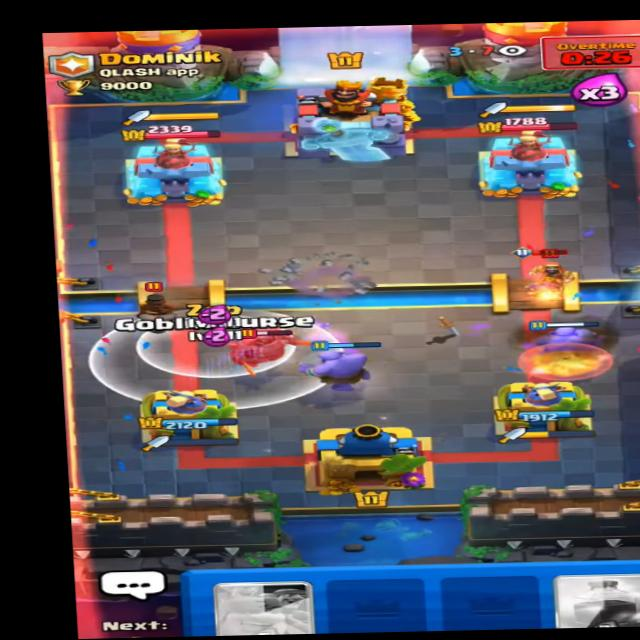Evowizard: (515, 276, 581, 301)
Pekka: (201, 317, 311, 370)
Ramrider: (124, 273, 189, 334)
Wizard: (521, 241, 588, 287)
